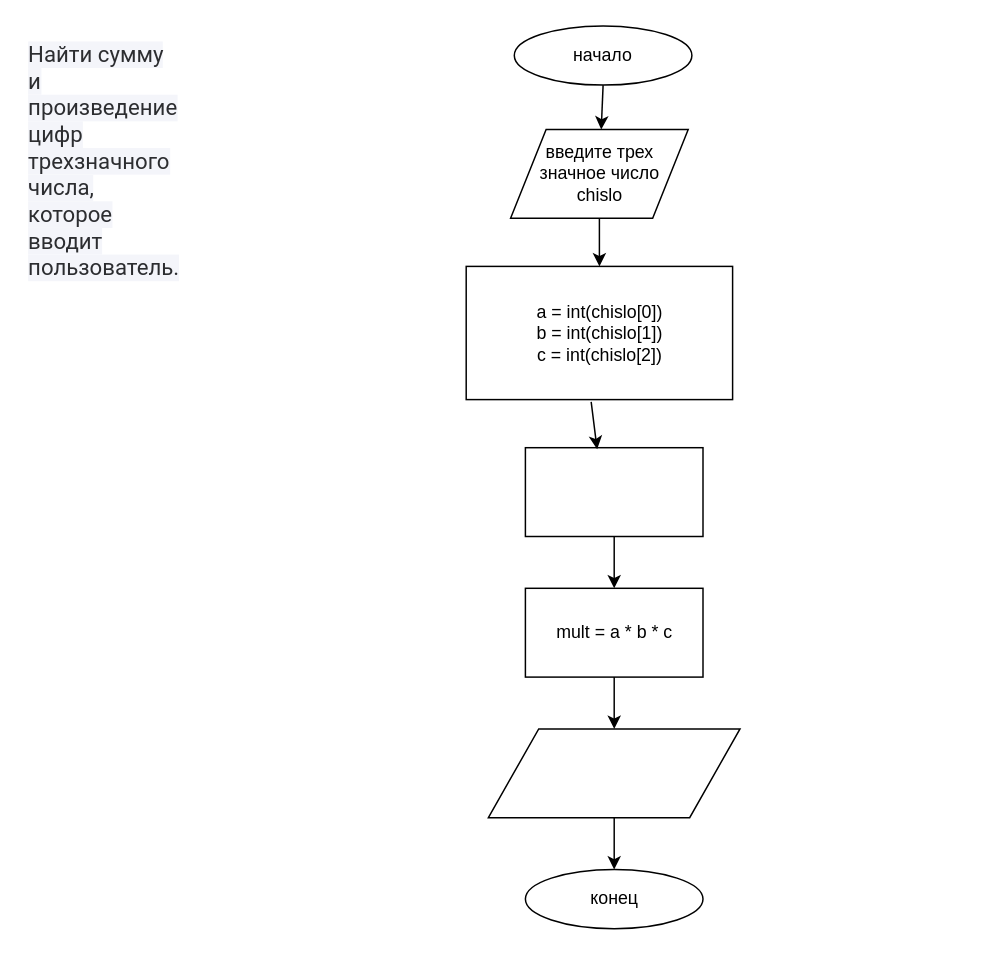
Image size: 983x955. Some labels were removed from this diagram. The shapes that lost their labels are listed below. From the top down, each one's centre as x and y in pixels, then its label:
point (613, 491): sum = a + b + c
point (613, 772): Сумма sum Произведение mult
